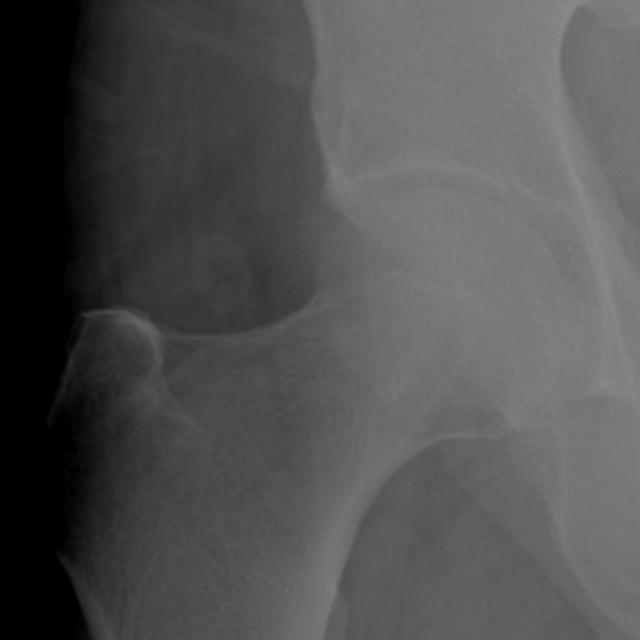Fitted_femural_head: (279, 186, 432, 279)
